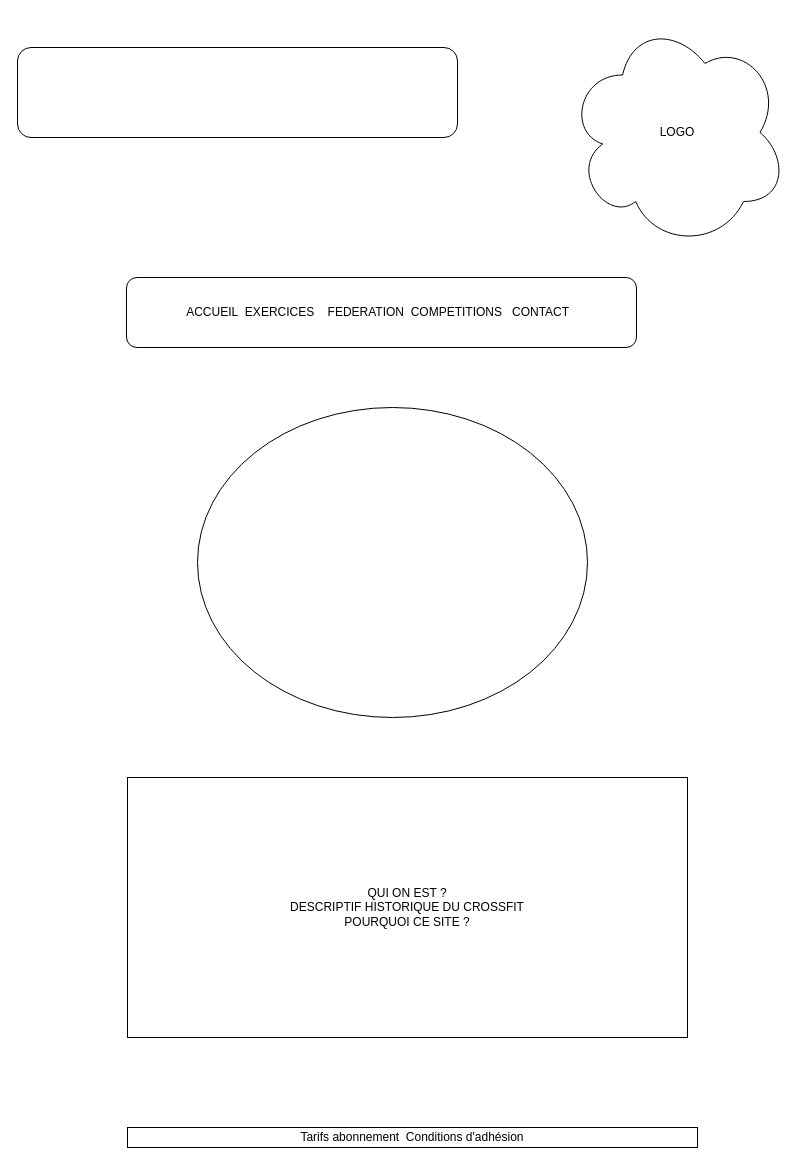
Some shapes in this 805 by 1165 pixel diagram are drawn without their labels. Each missing label, with the centre of its shape:
"NOM DE LA STRUCTURE" goes at (x=237, y=92).
"PHOTO" goes at (x=392, y=562).
